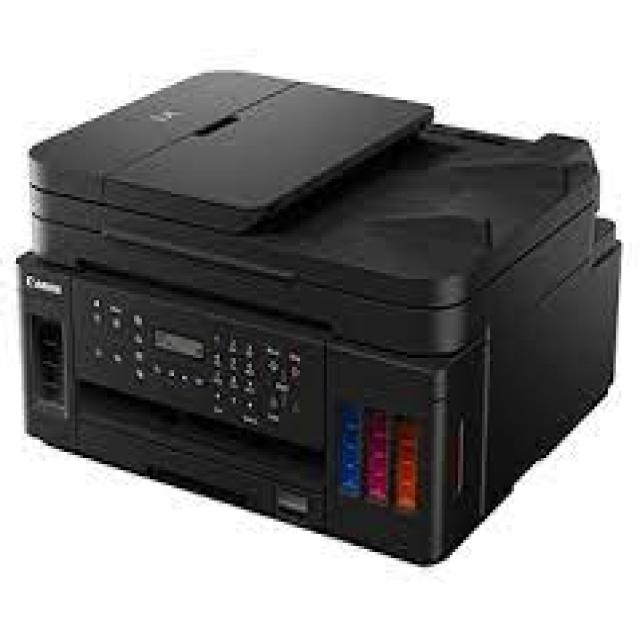printer: (0, 45, 637, 587)
